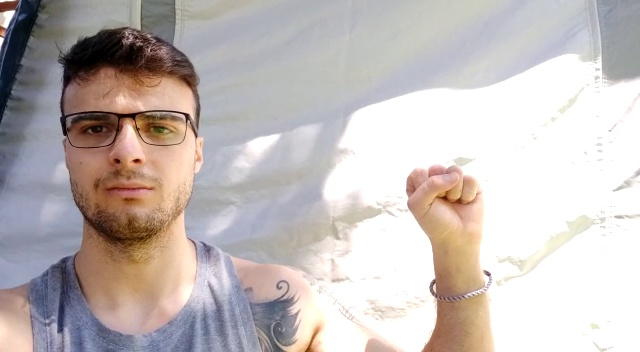Fist: (406, 159, 490, 252)
